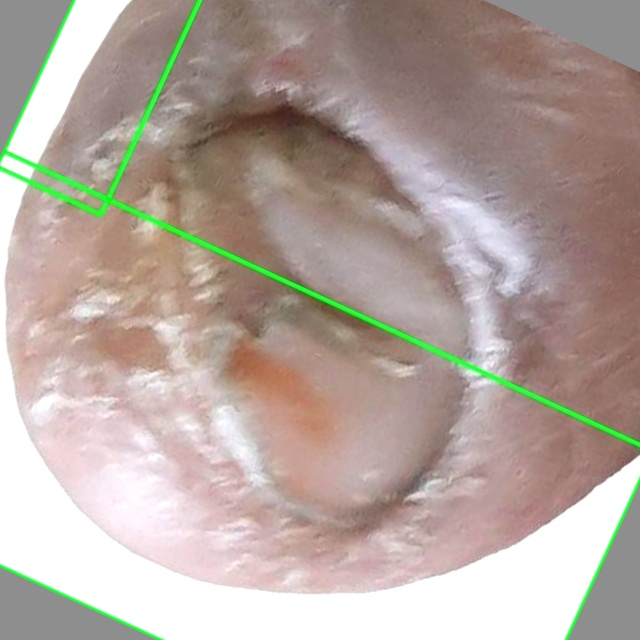Contact Dermatitis: (0, 151, 639, 639)
